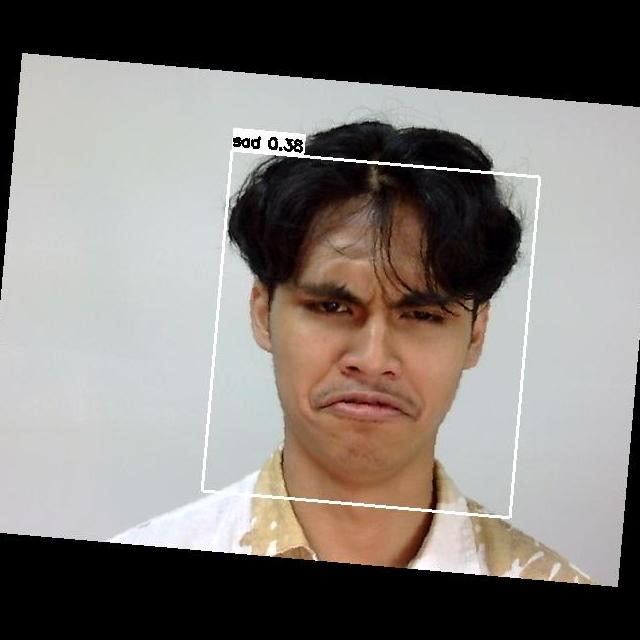Sad: (260, 249, 471, 457)
